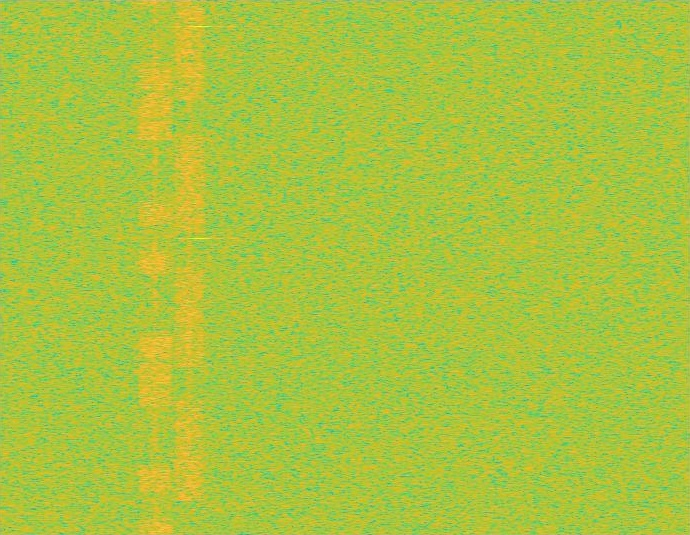5G: (173, 0, 207, 534)
DSSS: (153, 0, 158, 534), (187, 0, 192, 534)
LTE: (138, 0, 173, 534)
Radar: (193, 0, 207, 534)
